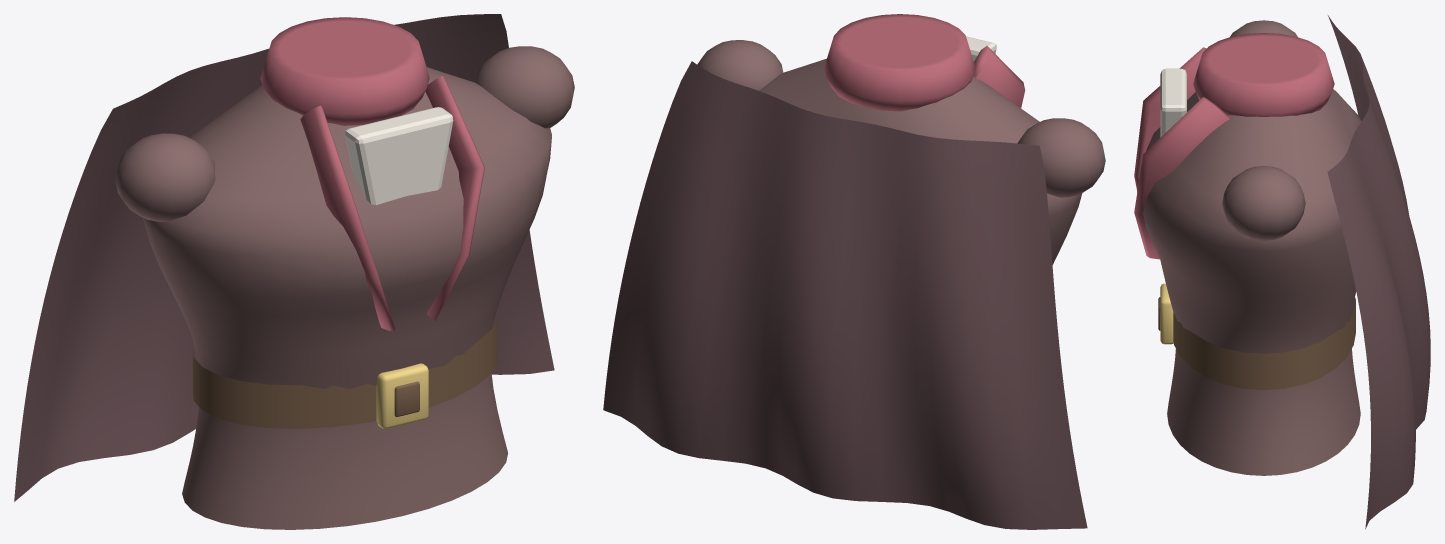
File: opp_torso.glb
3 views of the same model, side by side, from view 1: azimuth 30°, elevation 25°; view 2: azimuth 150°, elevation 25°; view 3: azimuth 270°, elevation 25° (orthographic). The views are drawn at different scales.
Parts seen in each view (by area): view 1: CoatBody, MantleCloak, CoatTrimCollar, BeltStrap, ShirtInner, CoatTrimShoulder_L, CoatTrimShoulder_R, CoatTrimLapel_L, CoatTrimLapel_R, BeltBuckle, BeltBuckleInner; view 2: MantleCloak, CoatTrimCollar, CoatBody, CoatTrimShoulder_L, CoatTrimShoulder_R, CoatTrimLapel_L; view 3: CoatBody, MantleCloak, CoatTrimCollar, BeltStrap, CoatTrimShoulder_R, CoatTrimLapel_R, CoatTrimLapel_L, ShirtInner, BeltBuckle, CoatTrimShoulder_L.
Part boxes in pixels (<box>): CoatBody: <box>142,67,551,529</box>; MantleCloak: <box>14,14,554,501</box>; CoatTrimCollar: <box>260,17,429,125</box>; BeltStrap: <box>192,319,497,428</box>; ShirtInner: <box>345,107,453,205</box>; CoatTrimShoulder_L: <box>115,133,215,221</box>; CoatTrimShoulder_R: <box>475,46,574,128</box>; CoatTrimLapel_L: <box>300,105,394,330</box>; CoatTrimLapel_R: <box>425,76,484,320</box>; BeltBuckle: <box>376,363,428,428</box>; BeltBuckleInner: <box>394,381,419,416</box>; MantleCloak: <box>603,61,1087,529</box>; CoatTrimCollar: <box>824,14,975,111</box>; CoatBody: <box>759,58,1082,264</box>; CoatTrimShoulder_L: <box>1017,118,1105,197</box>; CoatTrimShoulder_R: <box>697,40,783,90</box>; CoatTrimLapel_L: <box>973,46,1025,108</box>; CoatBody: <box>1137,89,1361,475</box>; MantleCloak: <box>1327,15,1430,529</box>; CoatTrimCollar: <box>1193,33,1334,116</box>; BeltStrap: <box>1173,297,1355,390</box>; CoatTrimShoulder_R: <box>1222,166,1305,240</box>; CoatTrimLapel_R: <box>1134,97,1229,259</box>; CoatTrimLapel_L: <box>1134,47,1206,190</box>; ShirtInner: <box>1160,68,1186,137</box>; BeltBuckle: <box>1160,283,1173,344</box>; CoatTrimShoulder_L: <box>1230,20,1297,36</box>.
Size of the model in its own units: 0.78 by 0.595 by 0.4441.
